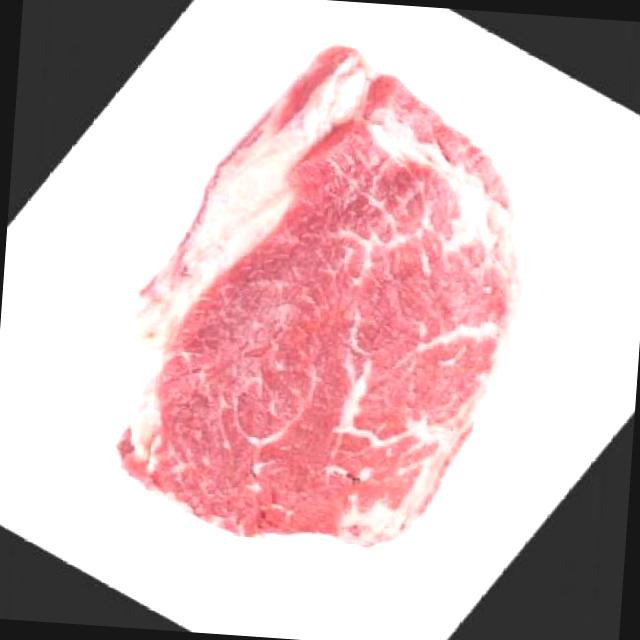beef: (113, 35, 535, 560)
